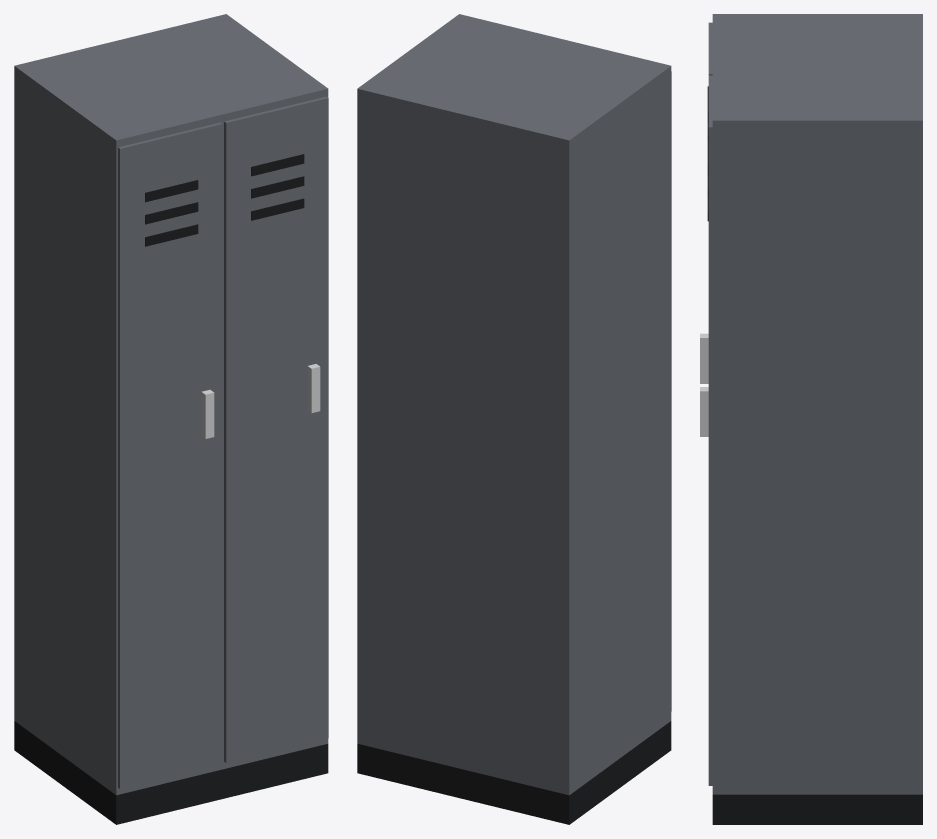
Rendered from locker.glb.
The picture shows the model from 3 angles, left to right: view 1: azimuth 30°, elevation 25°; view 2: azimuth 150°, elevation 25°; view 3: azimuth 270°, elevation 25°; orthographic projection. The views are drawn at different scales.
Parts seen in each view (by area): view 1: locker; view 2: locker; view 3: locker.
Part boxes in pixels (bbox=[...]): locker: bbox=[14, 14, 328, 824]; locker: bbox=[357, 14, 671, 824]; locker: bbox=[700, 14, 922, 824].
Size of the model in its own units: 0.6 by 1.85 by 0.53.
1 material, 1 textured.
